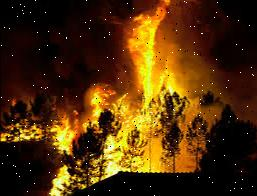fire: (0, 0, 181, 196)
